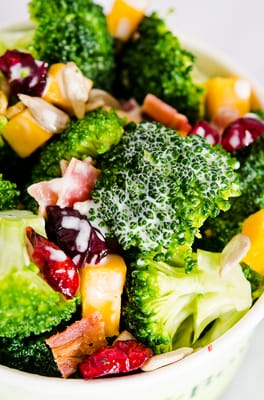curry: (86, 121, 263, 357), (22, 0, 208, 124), (109, 11, 207, 122), (0, 265, 79, 377), (25, 0, 117, 91), (34, 108, 127, 181)
